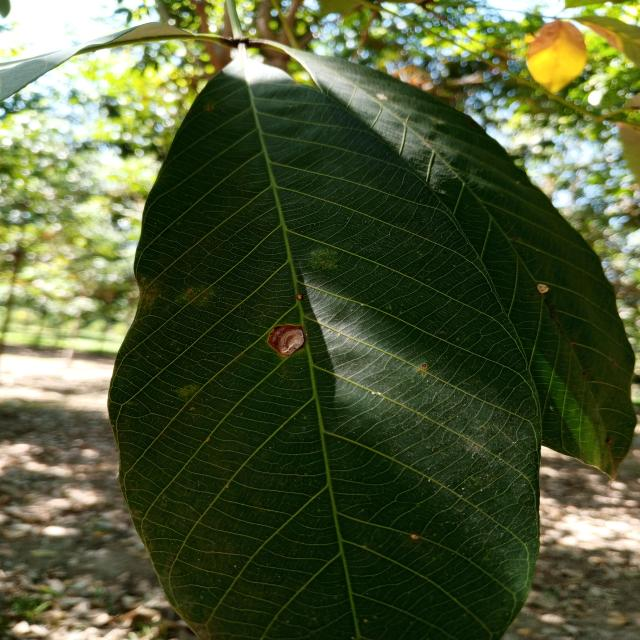Leaf-Blight: (268, 325, 304, 356)
